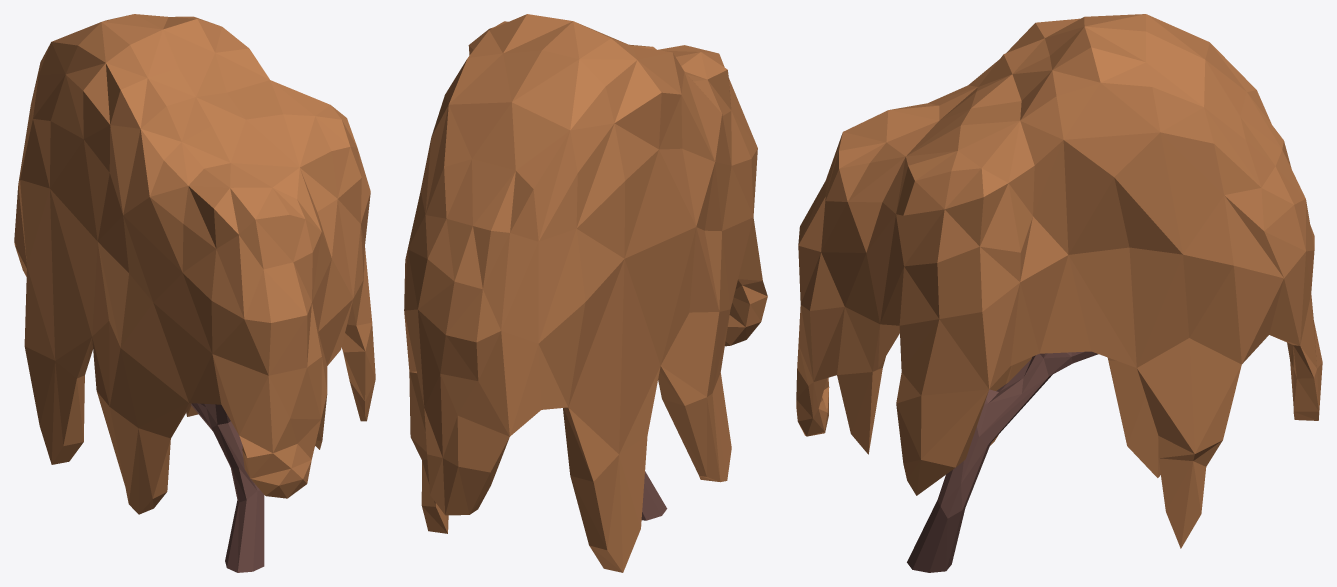
Rendered from Willow_Autumn_1.lod1.glb.
3 renders of one model, left to right at view 1: azimuth 30°, elevation 25°; view 2: azimuth 150°, elevation 25°; view 3: azimuth 270°, elevation 25°, orthographic. The views are drawn at different scales.
Visible parts, largest first — view 1: Willow_Autumn_1; view 2: Willow_Autumn_1; view 3: Willow_Autumn_1.
Boxes of the visible parts, bbox=[...] form: Willow_Autumn_1: bbox=[14, 14, 375, 572]; Willow_Autumn_1: bbox=[404, 14, 767, 572]; Willow_Autumn_1: bbox=[796, 14, 1322, 572].
Bounding box in the file's own units: 1.45 × 2.85 × 2.56.
